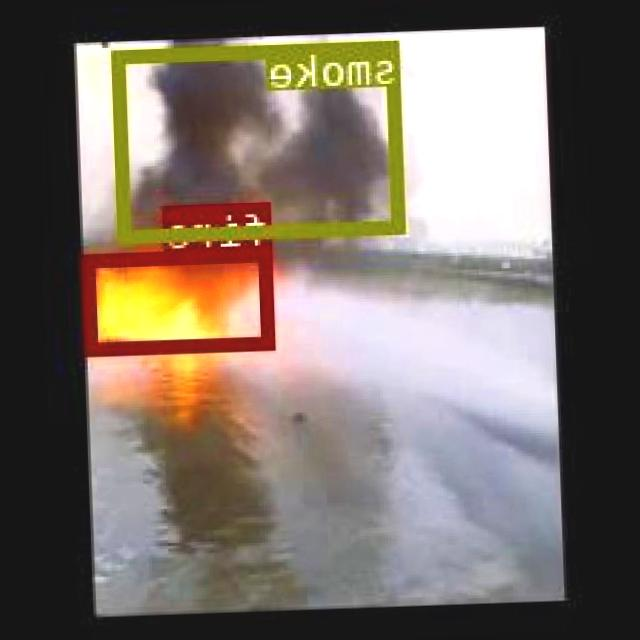fire: (86, 245, 276, 354)
smoke: (114, 37, 408, 239)
